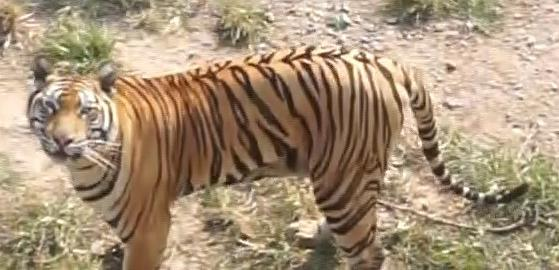tiger: (27, 46, 449, 269)
